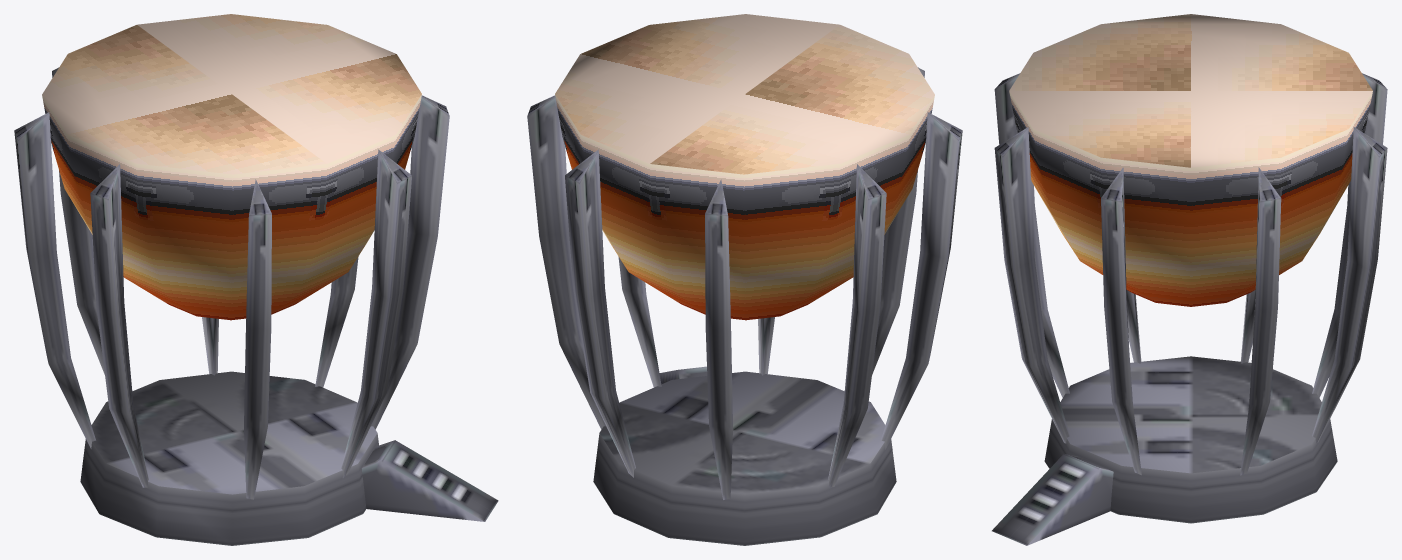
The model's file is int_pcs_tinpani.dae.
3 renders of one model, left to right at view 1: azimuth 30°, elevation 25°; view 2: azimuth 150°, elevation 25°; view 3: azimuth 270°, elevation 25°, orthographic. The views are drawn at different scales.
Visible parts, largest first — view 1: int_pcs_tinpani; view 2: int_pcs_tinpani; view 3: int_pcs_tinpani.
Boxes of the visible parts, x1,y1,x2,y2 form: int_pcs_tinpani: (14, 14, 498, 545); int_pcs_tinpani: (527, 14, 962, 545); int_pcs_tinpani: (992, 14, 1387, 545).
Bounding box in the file's own units: 24.6 × 25.4 × 24.6.
Materials: 3 (3 with a texture image).
